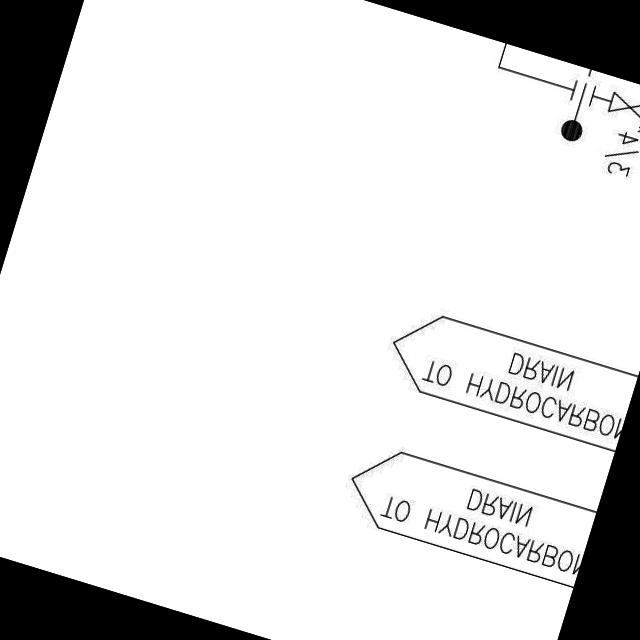GV: (599, 85, 640, 129)
